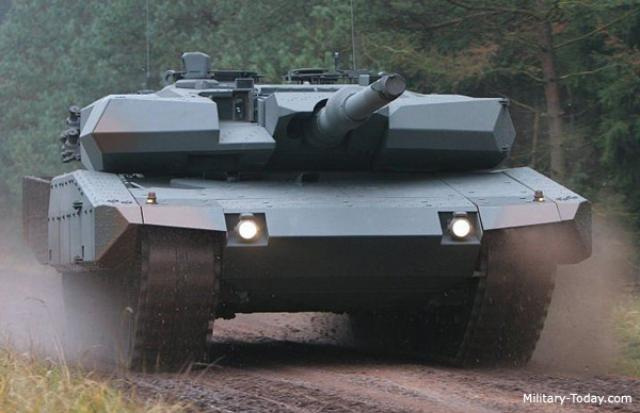tank: (24, 51, 596, 374)
